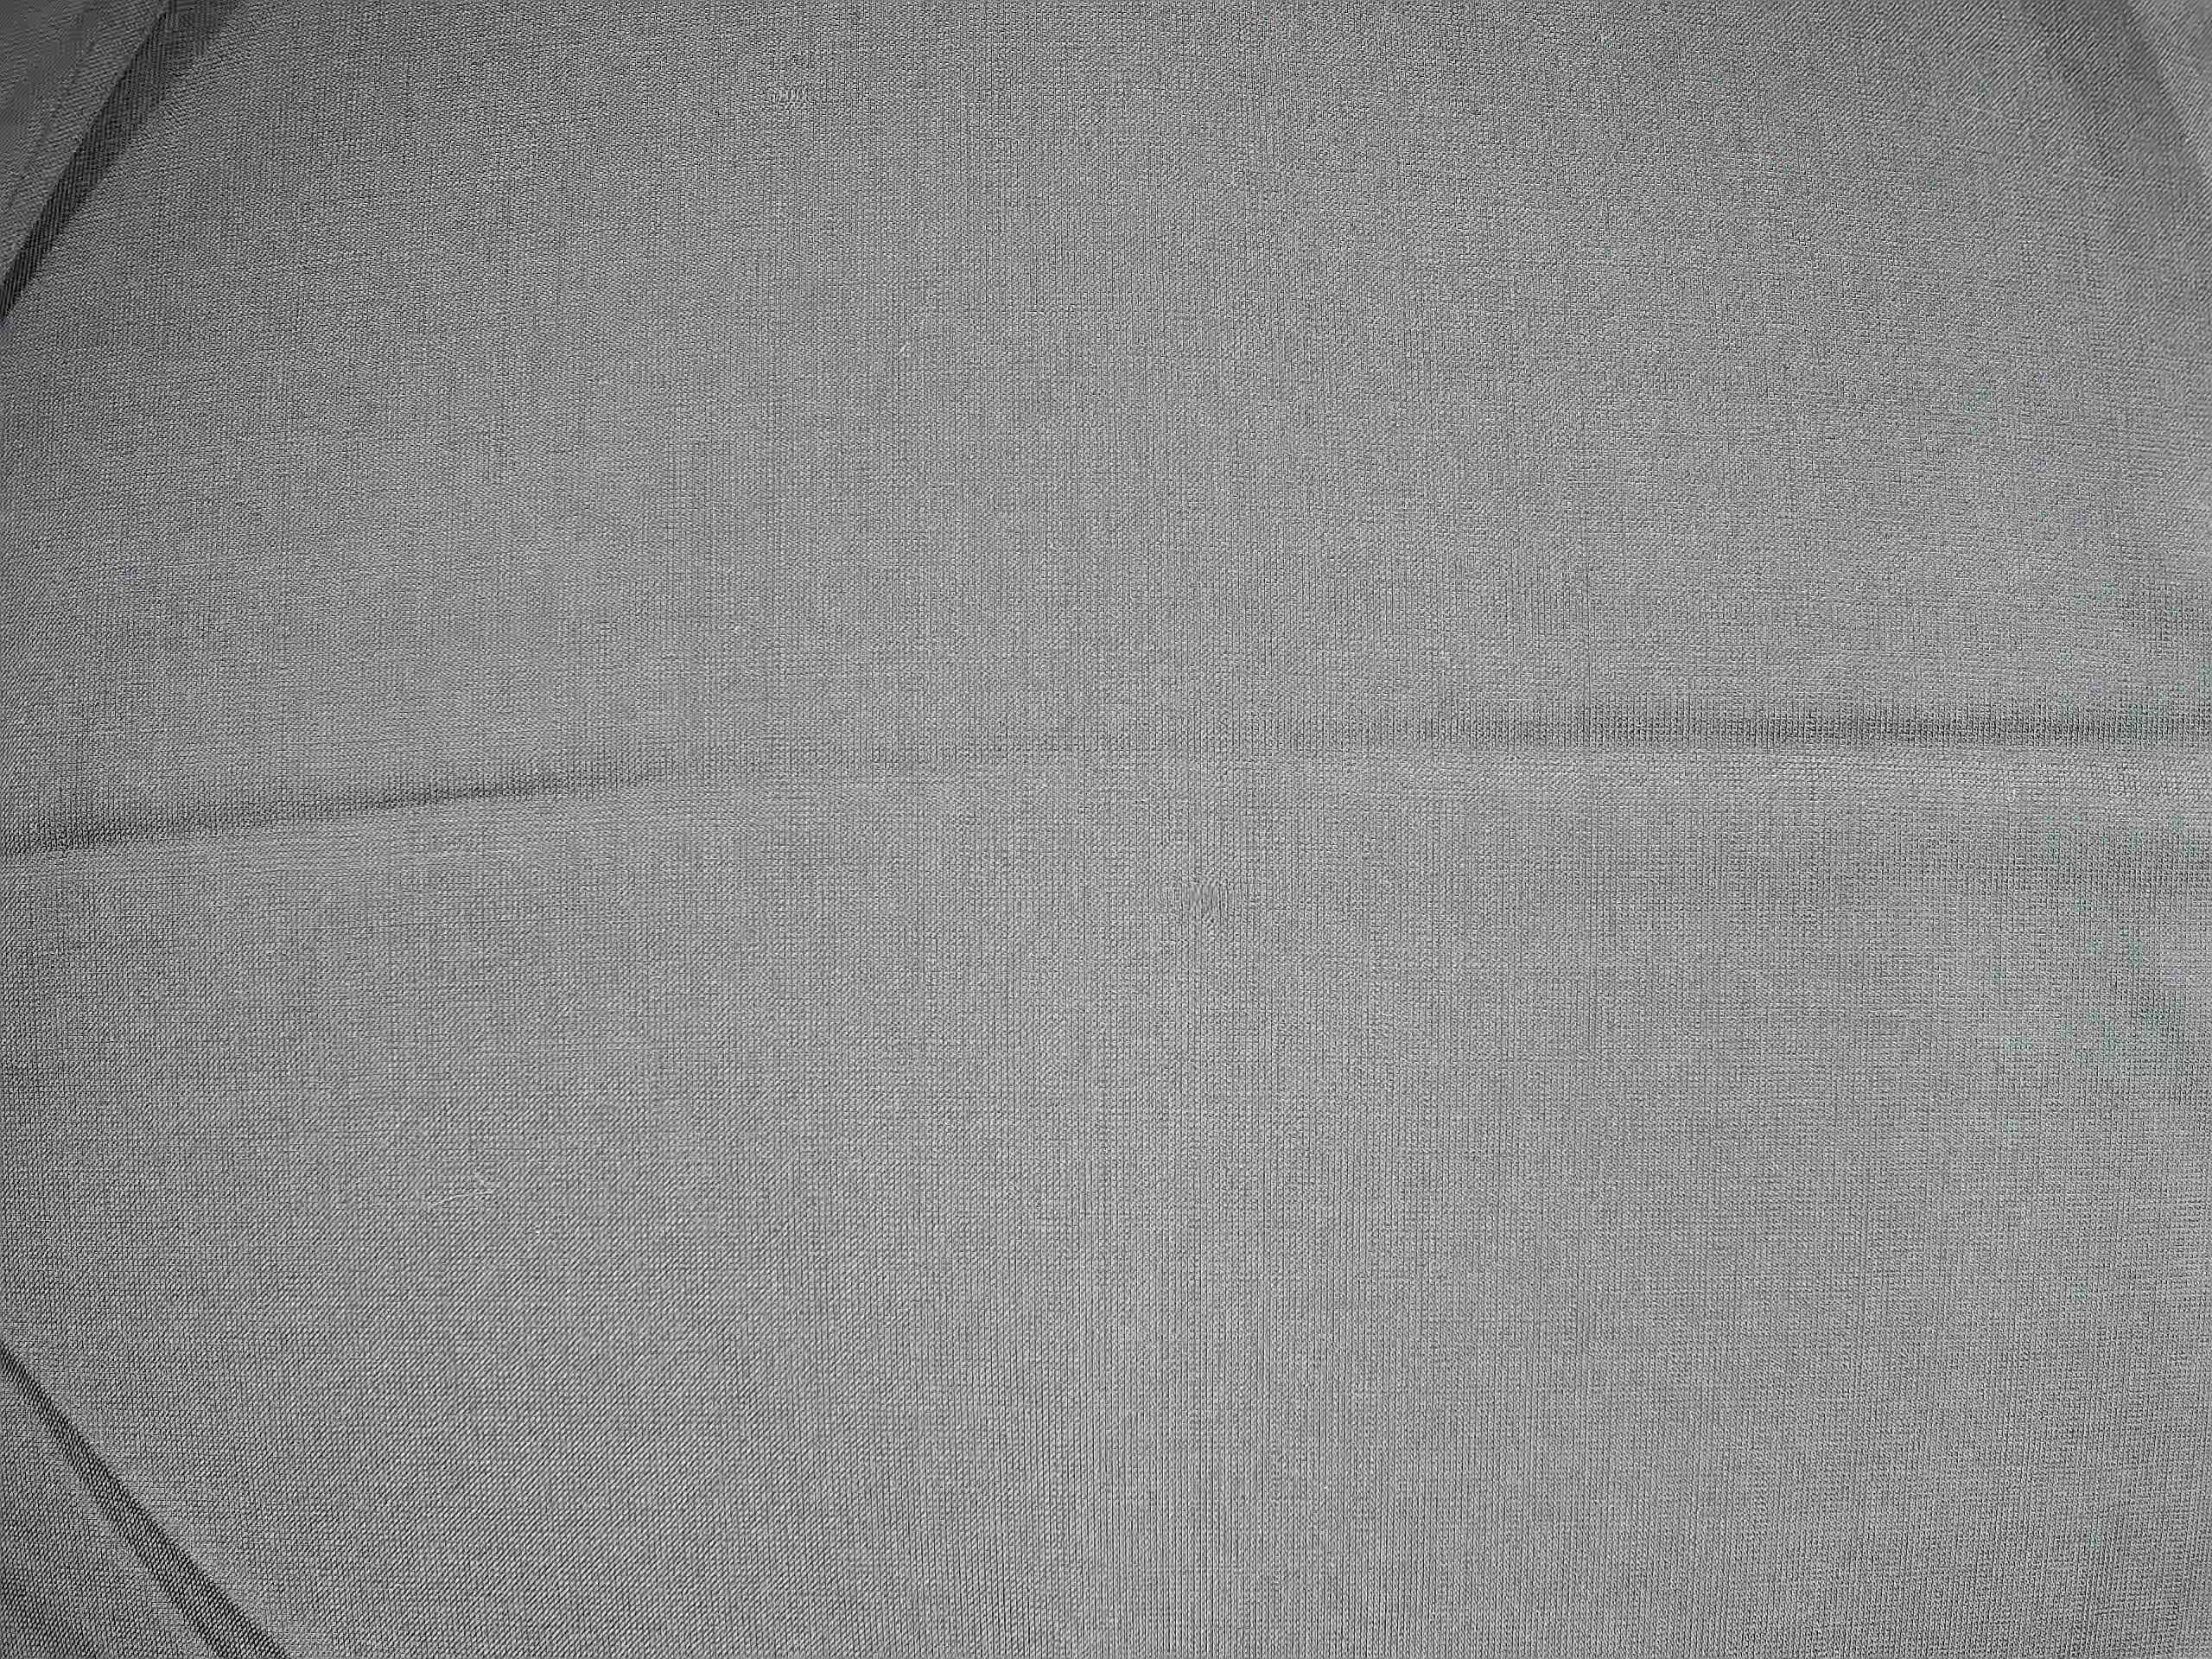bruise: (1160, 864, 1249, 941), (752, 73, 833, 115)
